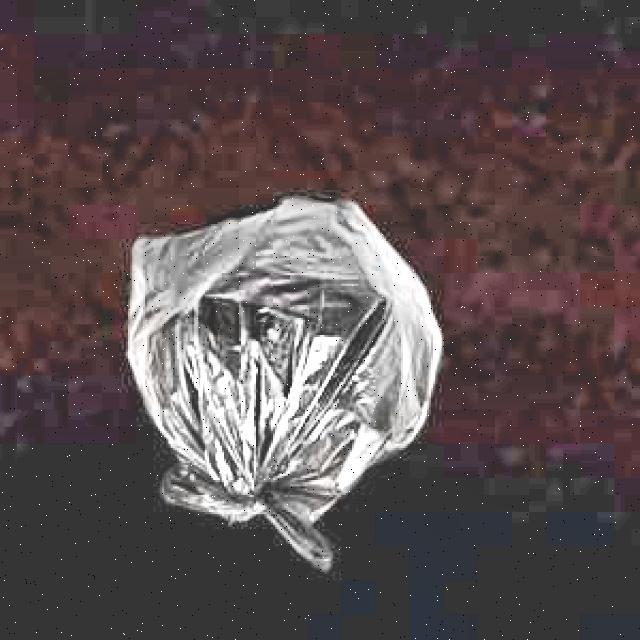Trashbag: (117, 183, 461, 575)
